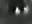person: (24, 6, 30, 17), (15, 7, 21, 17)
